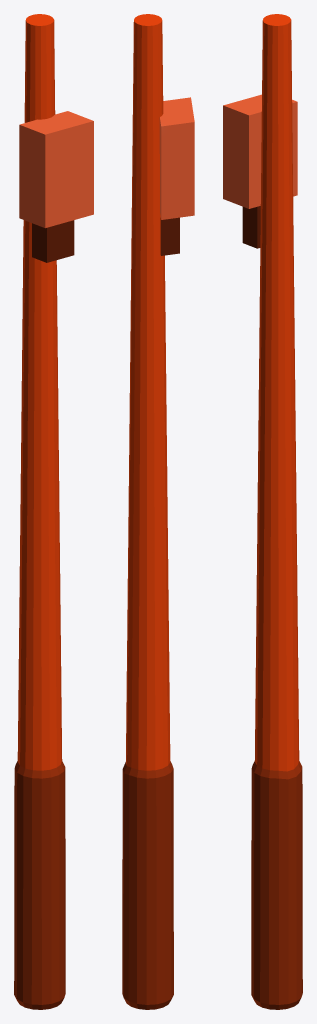
File: poste2.fbx
3 views of the same model, side by side, from view 1: azimuth 90°, elevation 25°; view 2: azimuth 150°, elevation 25°; view 3: azimuth 270°, elevation 25° (orthographic).
Visible parts, largest first — view 1: Poste.001; view 2: Poste.001; view 3: Poste.001.
Boxes of the visible parts, x1,y1,x2,y2 form: Poste.001: [14, 14, 93, 1009]; Poste.001: [122, 14, 194, 1009]; Poste.001: [223, 14, 302, 1009].
Bounding box in the file's own units: 125 × 1770 × 130.
Materials: 1 (1 with a texture image).
